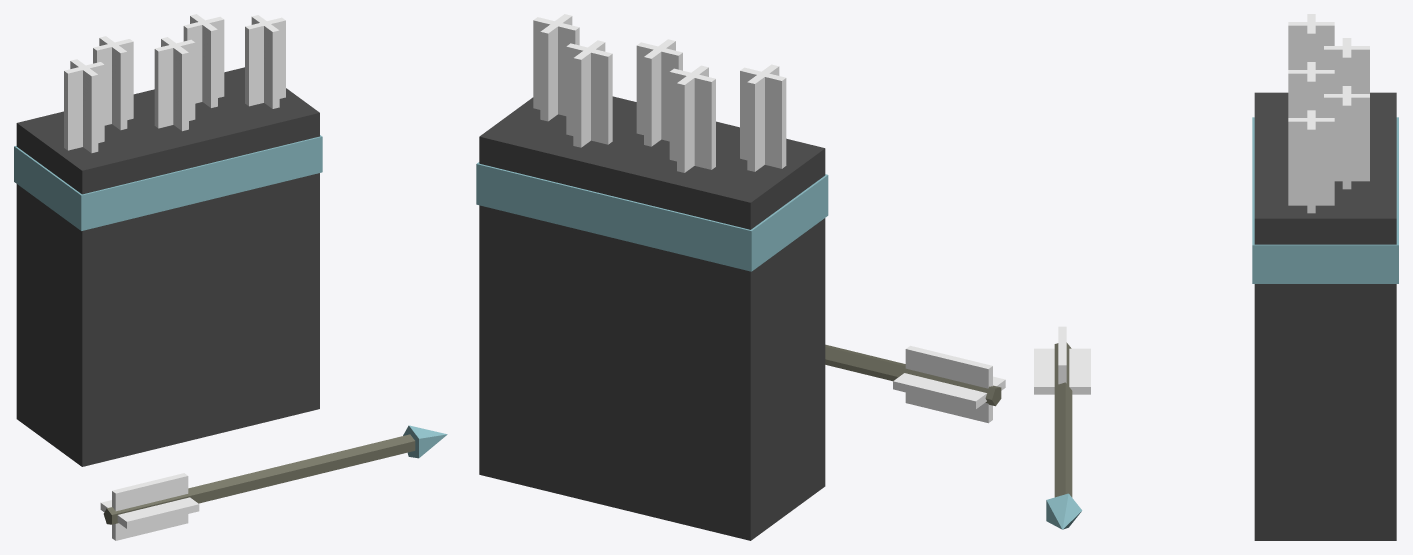
Rendered from ce_ammo2_bolt_plasteel_c.obj.
3 views of the same model, side by side, from view 1: azimuth 30°, elevation 25°; view 2: azimuth 150°, elevation 25°; view 3: azimuth 270°, elevation 25° (orthographic). The views are drawn at different scales.
Parts seen in each view (by area): view 1: ce_ammo2_bolt_plasteel_c_0, ce_ammo2_bolt_plasteel_c_1, ce_ammo2_bolt_plasteel_c_12, ce_ammo2_bolt_plasteel_c_15, ce_ammo2_bolt_plasteel_c_6, ce_ammo2_bolt_plasteel_c_2, ce_ammo2_bolt_plasteel_c_10, ce_ammo2_bolt_plasteel_c_8, ce_ammo2_bolt_plasteel_c_4, ce_ammo2_bolt_plasteel_c_11, ce_ammo2_bolt_plasteel_c_7, ce_ammo2_bolt_plasteel_c_14 (+4 smaller); view 2: ce_ammo2_bolt_plasteel_c_0, ce_ammo2_bolt_plasteel_c_1, ce_ammo2_bolt_plasteel_c_15, ce_ammo2_bolt_plasteel_c_4, ce_ammo2_bolt_plasteel_c_8, ce_ammo2_bolt_plasteel_c_2, ce_ammo2_bolt_plasteel_c_12, ce_ammo2_bolt_plasteel_c_6, ce_ammo2_bolt_plasteel_c_10, ce_ammo2_bolt_plasteel_c_14, ce_ammo2_bolt_plasteel_c_11, ce_ammo2_bolt_plasteel_c_7 (+3 smaller); view 3: ce_ammo2_bolt_plasteel_c_0, ce_ammo2_bolt_plasteel_c_1, ce_ammo2_bolt_plasteel_c_11, ce_ammo2_bolt_plasteel_c_9, ce_ammo2_bolt_plasteel_c_12, ce_ammo2_bolt_plasteel_c_14, ce_ammo2_bolt_plasteel_c_3, ce_ammo2_bolt_plasteel_c_7, ce_ammo2_bolt_plasteel_c_5, ce_ammo2_bolt_plasteel_c_8, ce_ammo2_bolt_plasteel_c_10, ce_ammo2_bolt_plasteel_c_13 (+3 smaller).
Boxes of the visible parts, x1,y1,x2,y2 form: ce_ammo2_bolt_plasteel_c_0: (16,67,319,466); ce_ammo2_bolt_plasteel_c_1: (14,135,322,230); ce_ammo2_bolt_plasteel_c_12: (103,434,415,524); ce_ammo2_bolt_plasteel_c_15: (112,473,188,540); ce_ammo2_bolt_plasteel_c_6: (154,39,195,128); ce_ammo2_bolt_plasteel_c_2: (64,62,104,150); ce_ammo2_bolt_plasteel_c_10: (245,17,285,106); ce_ammo2_bolt_plasteel_c_8: (183,16,224,103); ce_ammo2_bolt_plasteel_c_4: (93,39,133,125); ce_ammo2_bolt_plasteel_c_11: (251,15,279,108); ce_ammo2_bolt_plasteel_c_7: (161,37,188,131); ce_ammo2_bolt_plasteel_c_14: (100,497,199,528); ce_ammo2_bolt_plasteel_c_0: (479,96,825,540); ce_ammo2_bolt_plasteel_c_1: (476,162,828,271); ce_ammo2_bolt_plasteel_c_15: (905,345,992,423); ce_ammo2_bolt_plasteel_c_4: (669,68,715,169); ce_ammo2_bolt_plasteel_c_8: (566,43,612,144); ce_ammo2_bolt_plasteel_c_2: (740,67,786,168); ce_ammo2_bolt_plasteel_c_12: (825,344,1001,406); ce_ammo2_bolt_plasteel_c_6: (636,42,682,141); ce_ammo2_bolt_plasteel_c_10: (533,17,579,115); ce_ammo2_bolt_plasteel_c_14: (893,373,1005,409); ce_ammo2_bolt_plasteel_c_11: (540,14,572,121); ce_ammo2_bolt_plasteel_c_7: (644,39,675,146); ce_ammo2_bolt_plasteel_c_0: (1254,92,1396,540); ce_ammo2_bolt_plasteel_c_1: (1252,117,1398,283); ce_ammo2_bolt_plasteel_c_11: (1288,118,1334,205); ce_ammo2_bolt_plasteel_c_9: (1324,94,1369,181); ce_ammo2_bolt_plasteel_c_12: (1054,342,1072,497); ce_ammo2_bolt_plasteel_c_14: (1034,348,1090,394); ce_ammo2_bolt_plasteel_c_3: (1288,22,1334,69); ce_ammo2_bolt_plasteel_c_7: (1288,70,1334,117); ce_ammo2_bolt_plasteel_c_5: (1324,46,1369,93); ce_ammo2_bolt_plasteel_c_8: (1342,86,1351,189); ce_ammo2_bolt_plasteel_c_10: (1307,110,1315,213); ce_ammo2_bolt_plasteel_c_13: (1046,493,1082,529).
Size of the model in its own units: 0.6 by 0.63 by 0.513.
